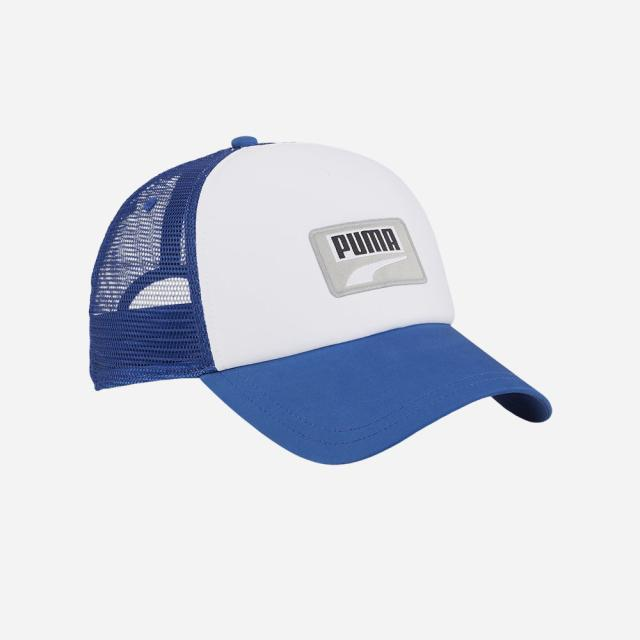Nonhelmet: (84, 130, 554, 467)
